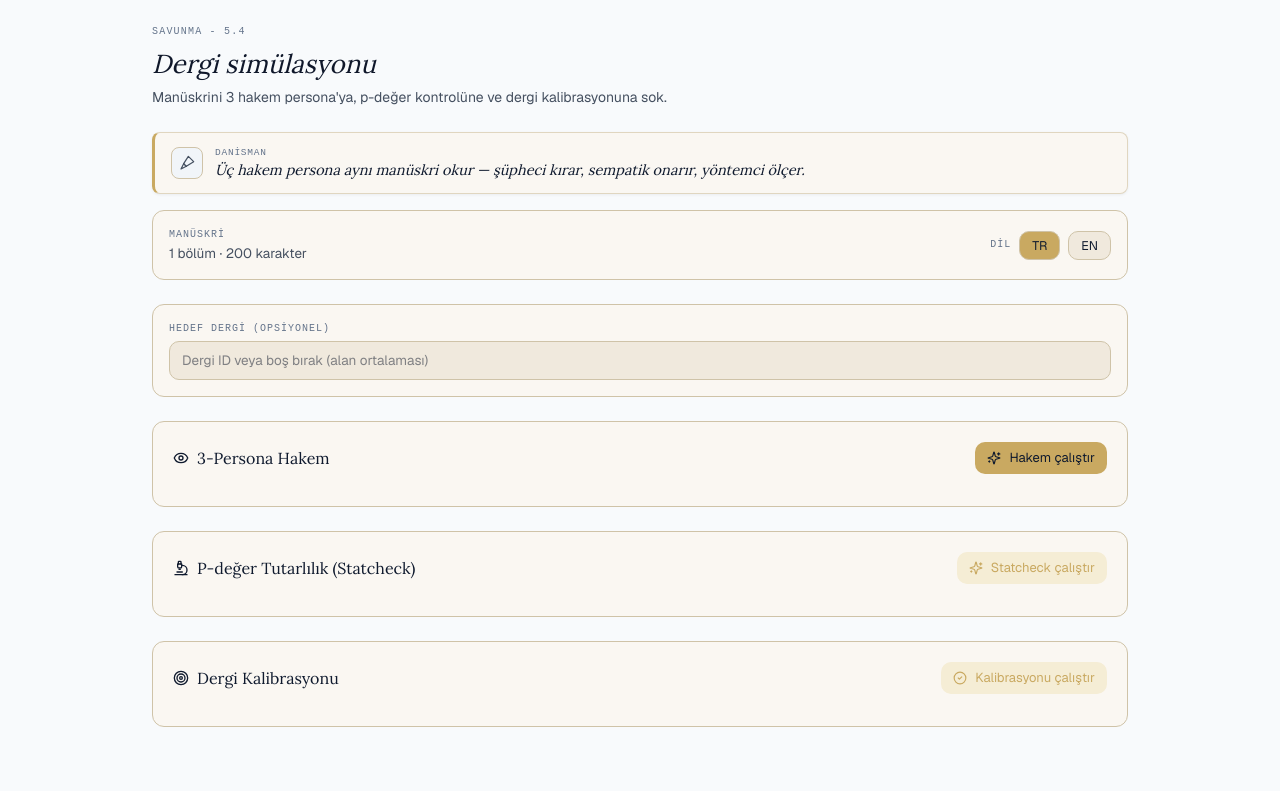
Test: JournalSimulationPage › calibration endpoint + verdict + distribution render
expect the text "1 bölüm · 200 karakter" is shown: met, box x1=169 y1=242 x2=307 y2=263
In the field with placeholder "Dergi ID veya boş bırak (alan ortalaması)": point(640, 360) x1=169 y1=341 x2=1111 y2=380, type "j-or"
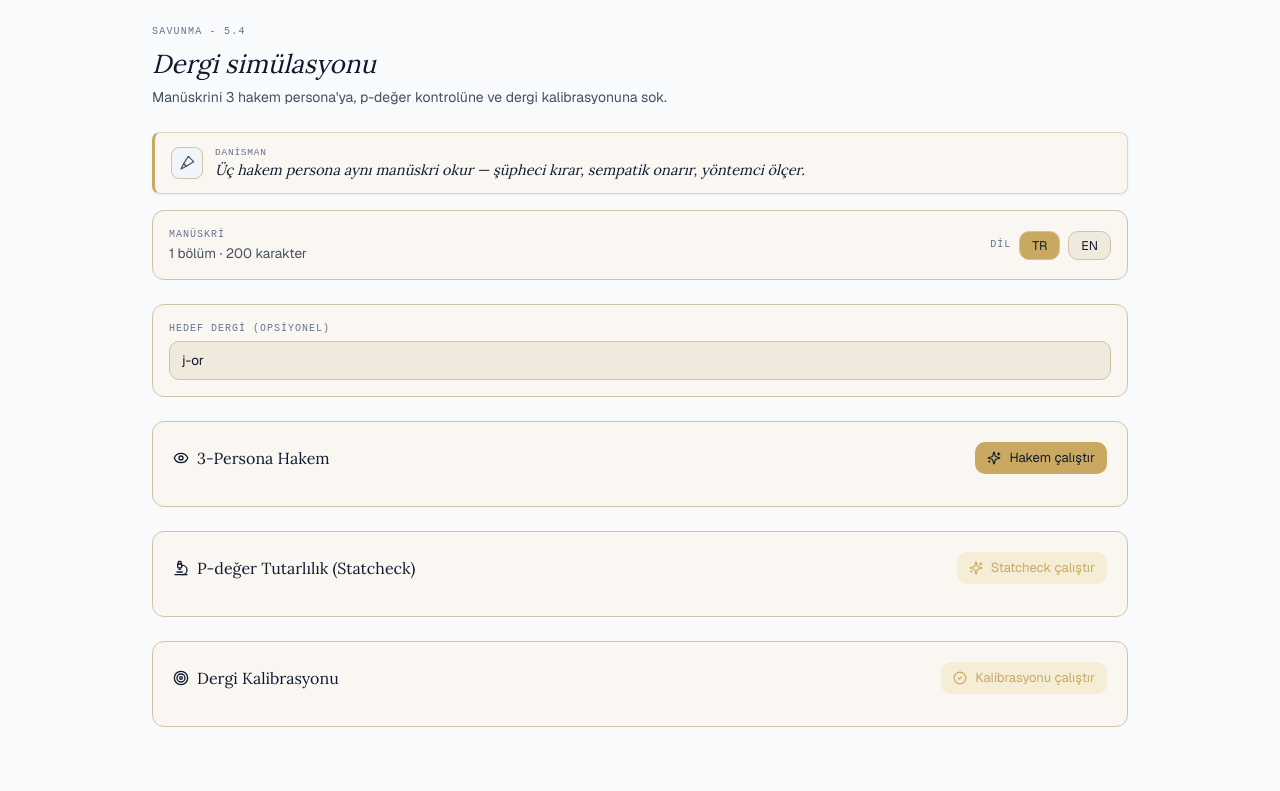
Click the button "Kalibrasyonu çalıştır": point(1024, 678) x1=941 y1=662 x2=1107 y2=694
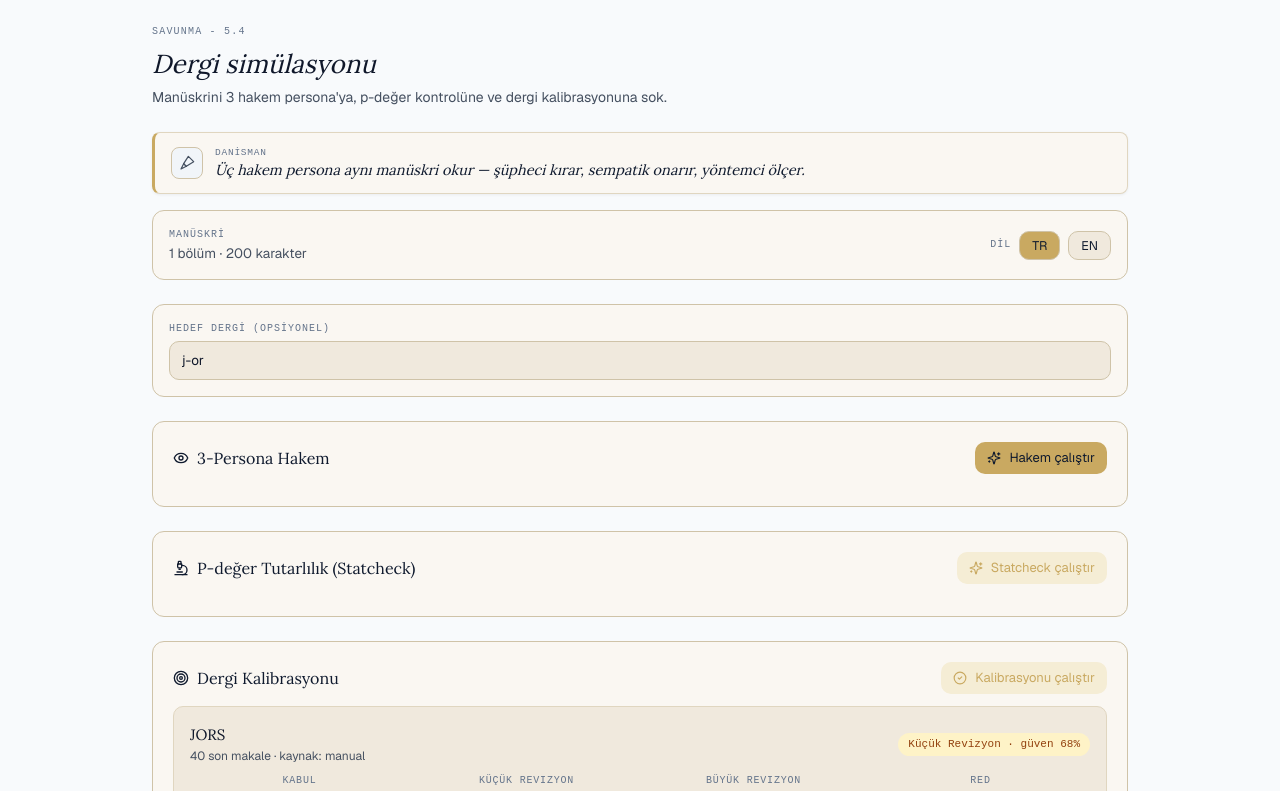
expect the text "JORS" is shown: met, box x1=190 y1=725 x2=225 y2=744
expect the text "Küçük Revizyon · güven 68%" is shown: met, box x1=898 y1=733 x2=1090 y2=756
